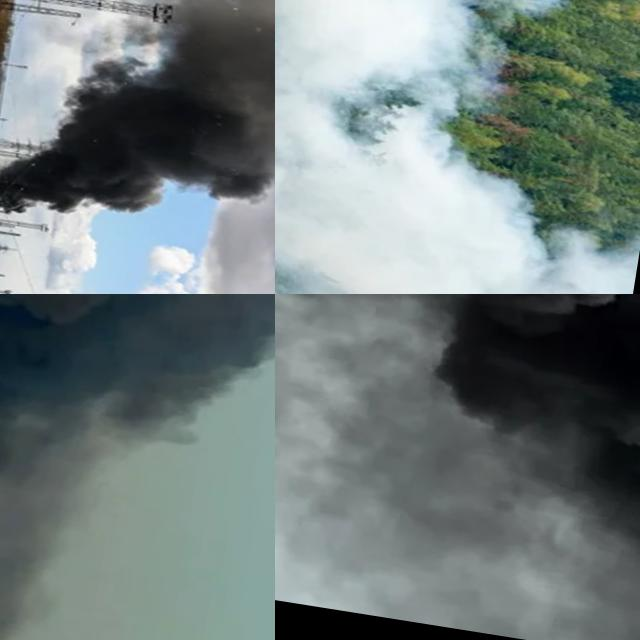smoke: (283, 294, 640, 551), (275, 91, 640, 294), (0, 0, 275, 268), (0, 294, 275, 559), (275, 0, 590, 154)
